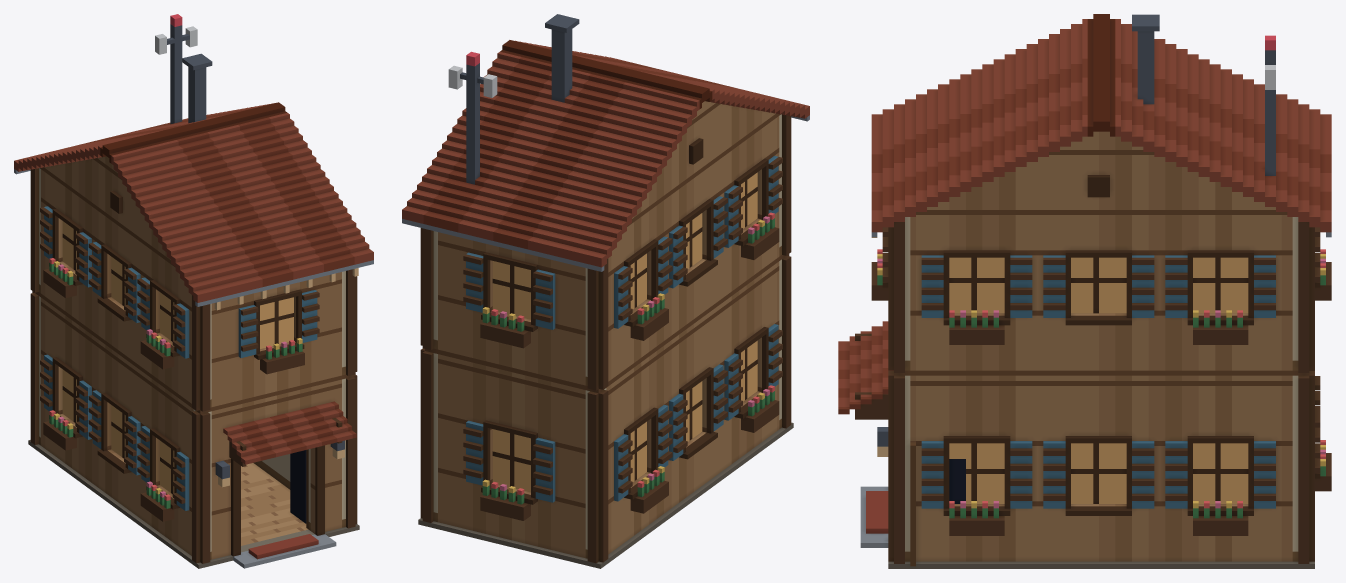
Rendered from lab_e1_l3.glb.
The picture shows the model from 3 angles, left to right: view 1: azimuth 30°, elevation 25°; view 2: azimuth 150°, elevation 25°; view 3: azimuth 270°, elevation 25°; orthographic projection. The views are drawn at different scales.
Parts seen in each view (by area): view 1: CutUpper, CutNX, Base, CutPZ, CutNZ; view 2: CutUpper, CutNZ, CutNX, Base, CutPZ; view 3: CutUpper, CutPX, Base, CutPZ, CutNZ.
Part boxes in pixels (bbox=[...]): CutUpper: bbox=[14, 14, 373, 413]; CutNX: bbox=[40, 298, 193, 519]; Base: bbox=[28, 406, 359, 568]; CutPZ: bbox=[192, 374, 357, 527]; CutNZ: bbox=[30, 291, 40, 409]; CutUpper: bbox=[402, 14, 809, 393]; CutNZ: bbox=[420, 348, 608, 522]; CutNX: bbox=[606, 261, 782, 513]; Base: bbox=[418, 384, 793, 568]; CutPZ: bbox=[779, 254, 791, 387]; CutUpper: bbox=[871, 14, 1331, 375]; CutPX: bbox=[910, 375, 1292, 525]; Base: bbox=[860, 459, 1331, 568]; CutPZ: bbox=[838, 321, 915, 520]; CutNZ: bbox=[1292, 370, 1331, 518].
Size of the model in its own units: 4.8 by 10.2 by 8.9.
